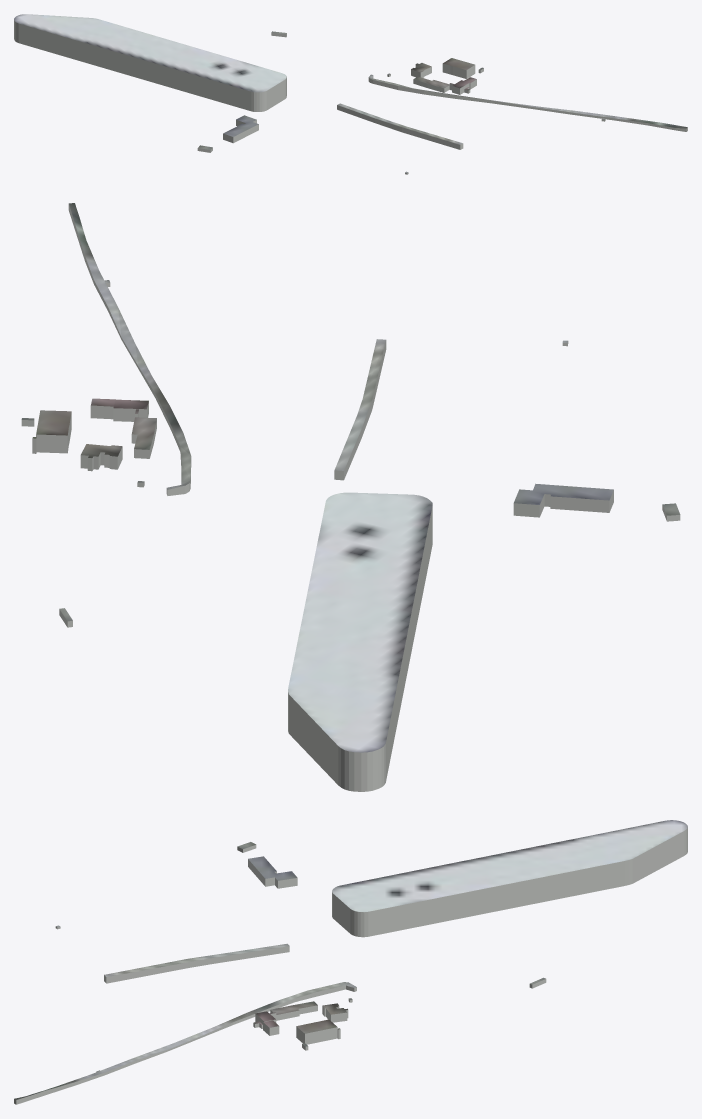
File: LFSB_1_0.glb
3 renders of one model, top to bottom at view 1: azimuth 30°, elevation 25°; view 2: azimuth 150°, elevation 25°; view 3: azimuth 270°, elevation 25°, orthographic. The views are drawn at different scales.
Visible parts, largest first — view 1: building_BATIMENT0000002204047359, building_BATIMENT0000000048079595, building_BATIMENT0000002493913909, building_BATIMENT0000000228171286, building_BATIMENT0000000228170939, building_BATIMENT0000000228171280; view 2: building_BATIMENT0000002204047359, building_BATIMENT0000000048079595, building_BATIMENT0000002493913909, building_BATIMENT0000000228170939, building_BATIMENT0000000228171286, building_BATIMENT0000000228171312, building_BATIMENT0000000228171280; view 3: building_BATIMENT0000002204047359, building_BATIMENT0000000048079595, building_BATIMENT0000002493913909, building_BATIMENT0000000228171286, building_BATIMENT0000000228170939, building_BATIMENT0000000228171280.
Part boxes in pixels (x1,y1,x2,y2): building_BATIMENT0000002204047359: (14,14,286,111); building_BATIMENT0000000048079595: (368,74,687,131); building_BATIMENT0000002493913909: (337,103,463,149); building_BATIMENT0000000228171286: (442,58,475,78); building_BATIMENT0000000228170939: (223,122,258,143); building_BATIMENT0000000228171280: (413,76,449,92); building_BATIMENT0000002204047359: (288,492,432,791); building_BATIMENT0000000048079595: (68,203,191,495); building_BATIMENT0000002493913909: (334,339,386,480); building_BATIMENT0000000228170939: (533,483,613,512); building_BATIMENT0000000228171286: (36,410,71,453); building_BATIMENT0000000228171312: (80,444,122,471); building_BATIMENT0000000228171280: (131,417,156,458); building_BATIMENT0000002204047359: (332,820,687,937); building_BATIMENT0000000048079595: (14,982,356,1104); building_BATIMENT0000002493913909: (104,943,289,983); building_BATIMENT0000000228171286: (296,1019,337,1044); building_BATIMENT0000000228170939: (248,856,276,886); building_BATIMENT0000000228171280: (270,1001,317,1020).
Size of the model in its own units: 432 by 26.7 by 478.
2 materials, 1 textured.
